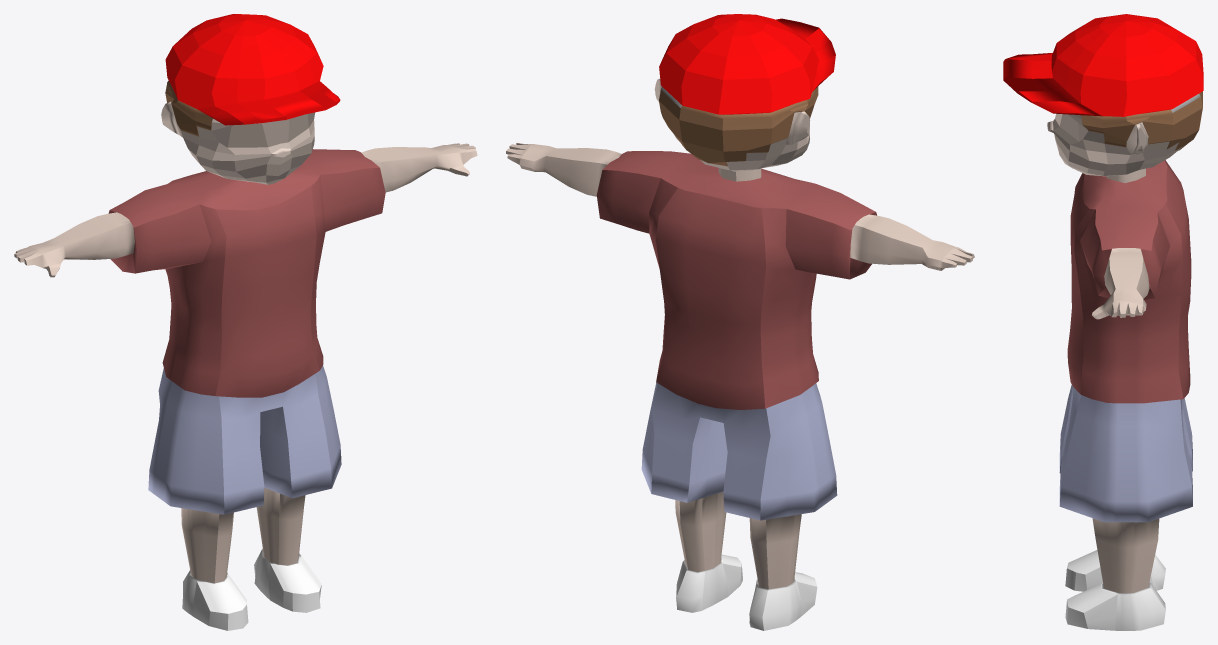
Rendered from testboy.fbx.
3 views of the same model, side by side, from view 1: azimuth 30°, elevation 25°; view 2: azimuth 150°, elevation 25°; view 3: azimuth 270°, elevation 25° (orthographic).
Visible parts, largest first — view 1: TestBoy; view 2: TestBoy; view 3: TestBoy.
Boxes of the visible parts, left/top/right/bottom form: TestBoy: left=14, top=14, right=477, bottom=630; TestBoy: left=506, top=14, right=974, bottom=630; TestBoy: left=1003, top=14, right=1203, bottom=630.
Size of the model in its own units: 5.08 by 6.18 by 1.92.
